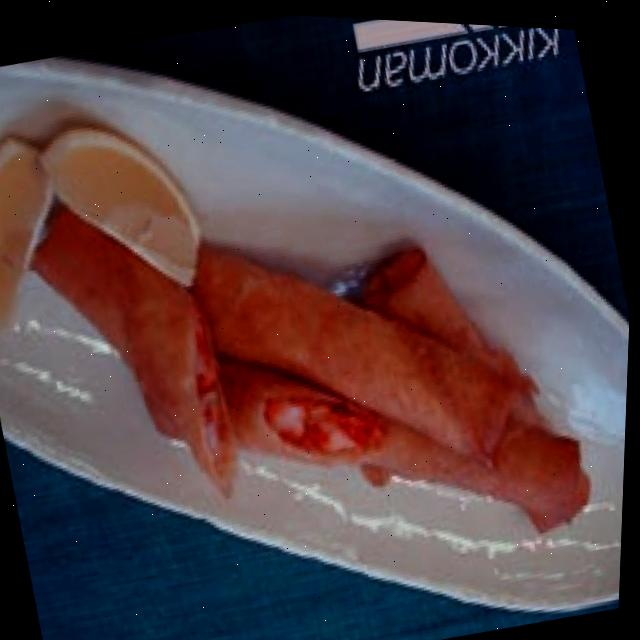鸡蛋料理: (8, 86, 631, 640)
